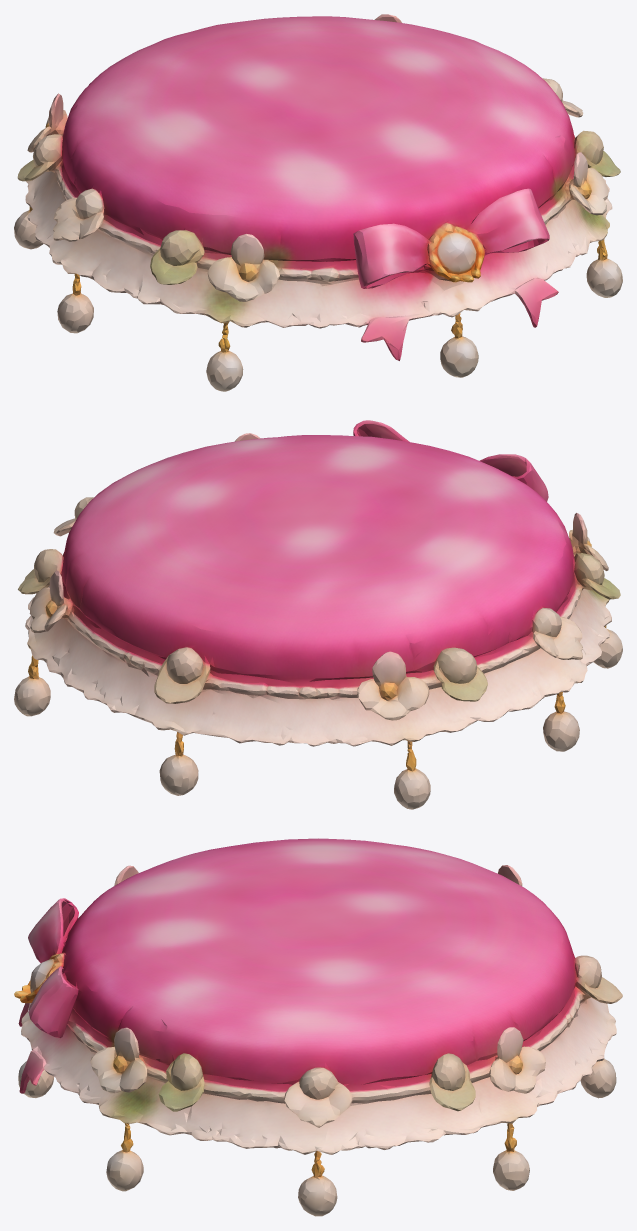
3 views of the same model, one above another, from view 1: azimuth 30°, elevation 25°; view 2: azimuth 150°, elevation 25°; view 3: azimuth 270°, elevation 25° (orthographic).
Visible parts, largest first — view 1: model; view 2: model; view 3: model.
Part boxes in pixels (box(x1,y1,x2,y2)): model: box(14, 14, 622, 391); model: box(14, 420, 622, 809); model: box(14, 838, 622, 1216).
Size of the model in its own units: 190 by 62.3 by 189.
1 material, 1 textured.
